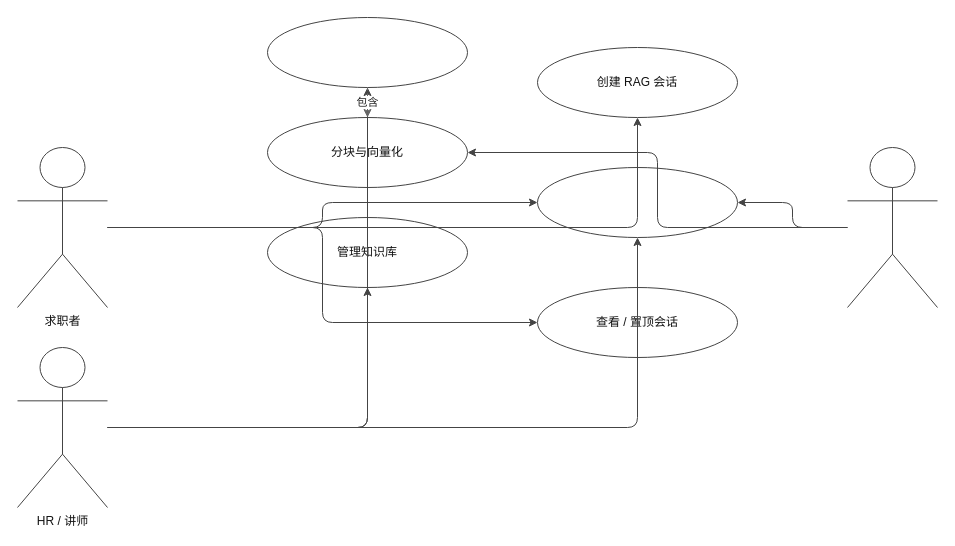
The diagram is 955 pixels wide and 546 high, and some of its shapes have lost their labels. Each missing label, with the box of its shape:
上传知识文档: (266, 16, 468, 88)
向量库 / LLM: (846, 146, 938, 308)
选择知识库问答: (536, 166, 738, 238)
